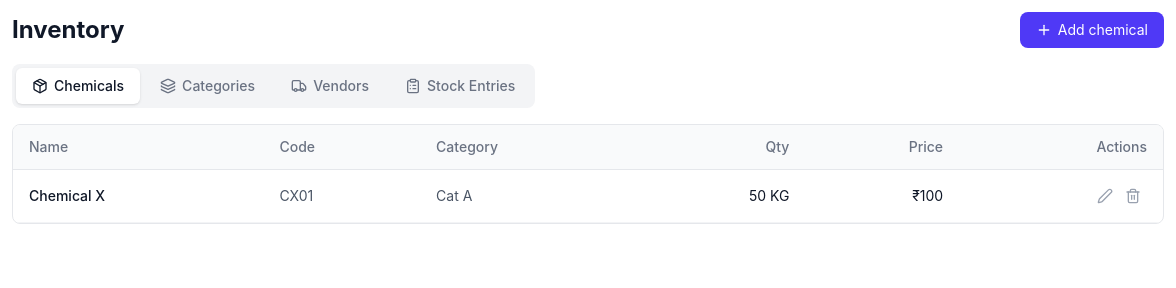
Test: Inventory › with loaded data › Stock Entries tab › shows empty state
This screenshot has width=1176, height=288.
Expected: the heading "Inventory" is shown, [12,14,124,46]
Click the button "Stock Entries". click: (460, 86)
box: [389,68,531,104]
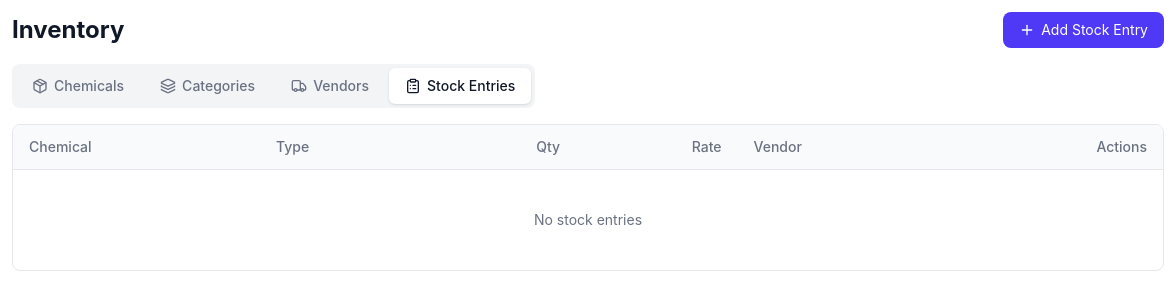
Now the text "No stock entries" is shown, box [13,170,1163,270]
